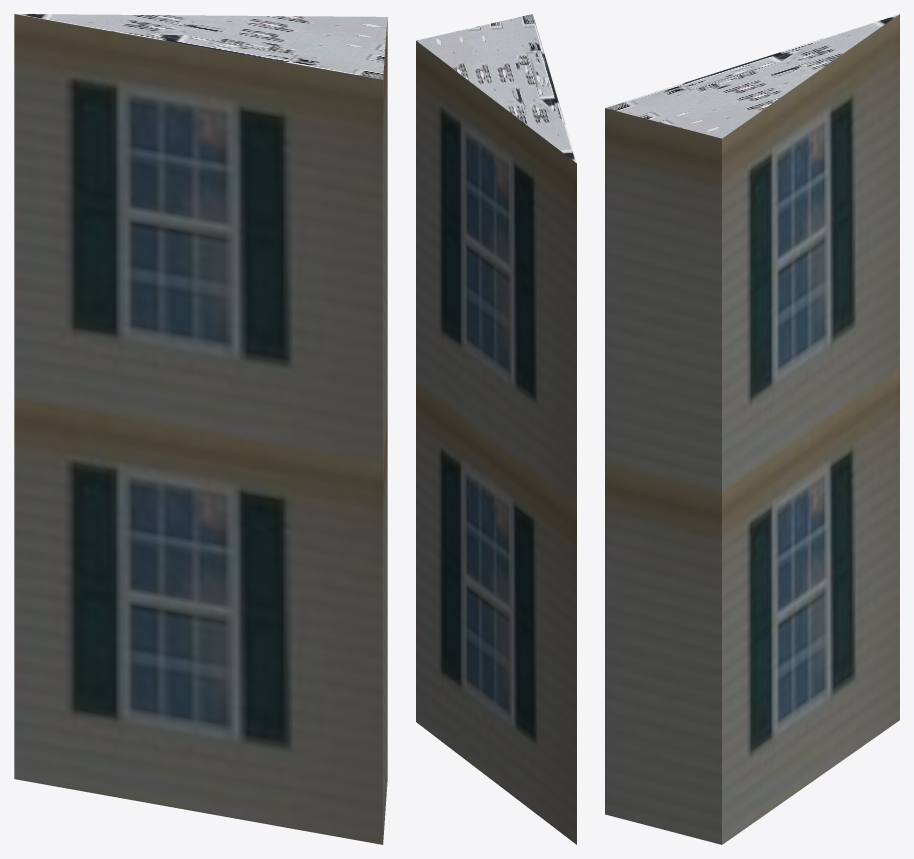
File: ResTex__4482.fbx
The picture shows the model from 3 angles, left to right: view 1: azimuth 30°, elevation 25°; view 2: azimuth 150°, elevation 25°; view 3: azimuth 270°, elevation 25°; orthographic projection. The views are drawn at different scales.
Parts seen in each view (by area): view 1: CityEngineMaterial_7_m, CityEngineMaterial_8_m; view 2: CityEngineMaterial_7_m, CityEngineMaterial_8_m; view 3: CityEngineMaterial_7_m, CityEngineMaterial_8_m.
Boxes of the visible parts, x1,y1,x2,y2 form: CityEngineMaterial_7_m: (14, 14, 387, 844); CityEngineMaterial_8_m: (15, 14, 387, 79); CityEngineMaterial_7_m: (416, 41, 576, 844); CityEngineMaterial_8_m: (416, 14, 576, 162); CityEngineMaterial_7_m: (605, 14, 899, 844); CityEngineMaterial_8_m: (605, 14, 898, 138).
Bounding box in the file's own units: 2.27 × 6 × 2.27.
Materials: 2 (2 with a texture image).
